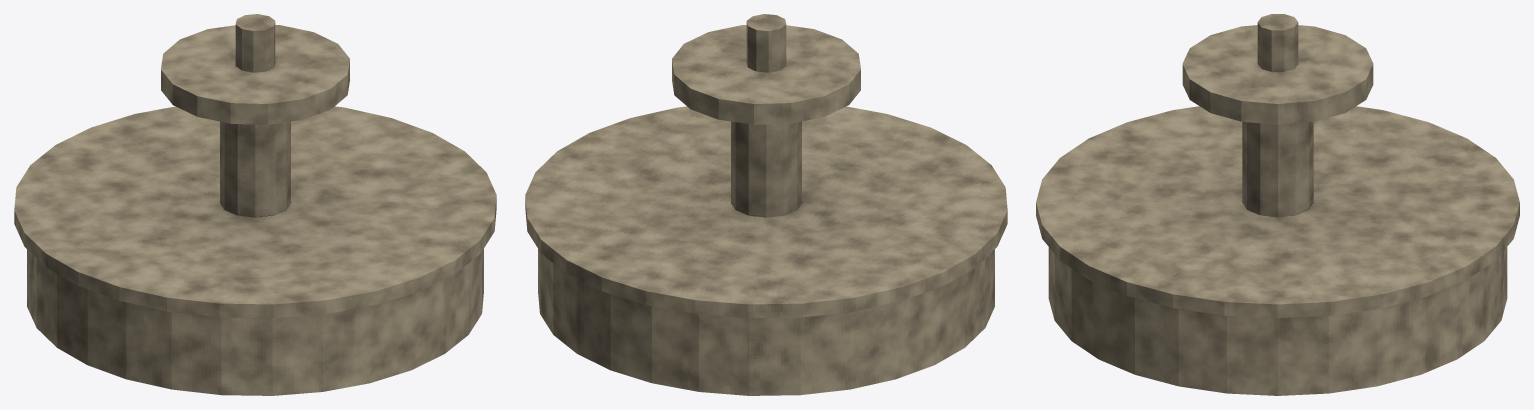
File: arena_sira_fountain.glb
3 renders of one model, left to right at view 1: azimuth 30°, elevation 25°; view 2: azimuth 150°, elevation 25°; view 3: azimuth 270°, elevation 25°, orthographic.
Visible parts, largest first — view 1: arena_sira_fountain; view 2: arena_sira_fountain; view 3: arena_sira_fountain.
Boxes of the visible parts, bbox=[...] form: arena_sira_fountain: bbox=[14, 14, 496, 395]; arena_sira_fountain: bbox=[525, 14, 1007, 395]; arena_sira_fountain: bbox=[1036, 14, 1519, 395].
Size of the model in its own units: 3.8 by 2.4 by 3.8.
Materials: 2 (2 with a texture image).
